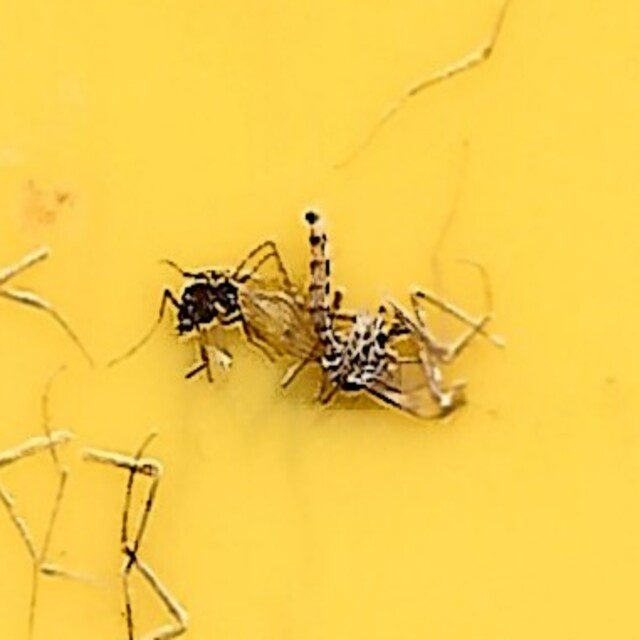Nematocera: (301, 211, 472, 429), (168, 251, 319, 370)
